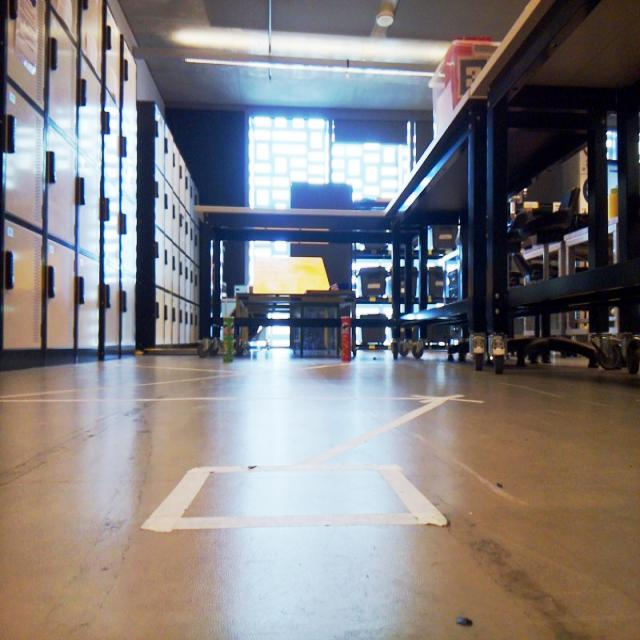greenpringles: (216, 305, 240, 369)
redpringles: (330, 302, 363, 369)
